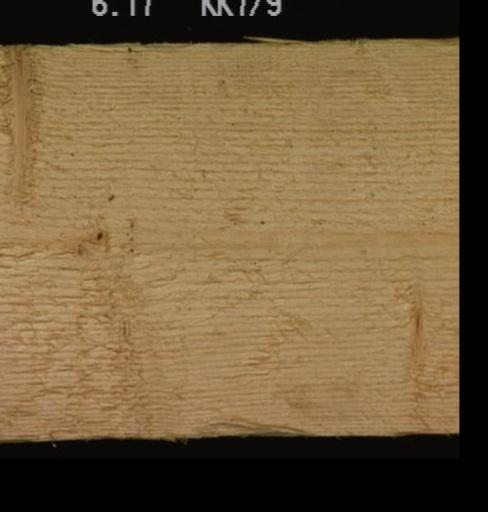small_knot: (90, 224, 110, 242), (72, 239, 85, 257)
wave: (201, 409, 315, 434)
